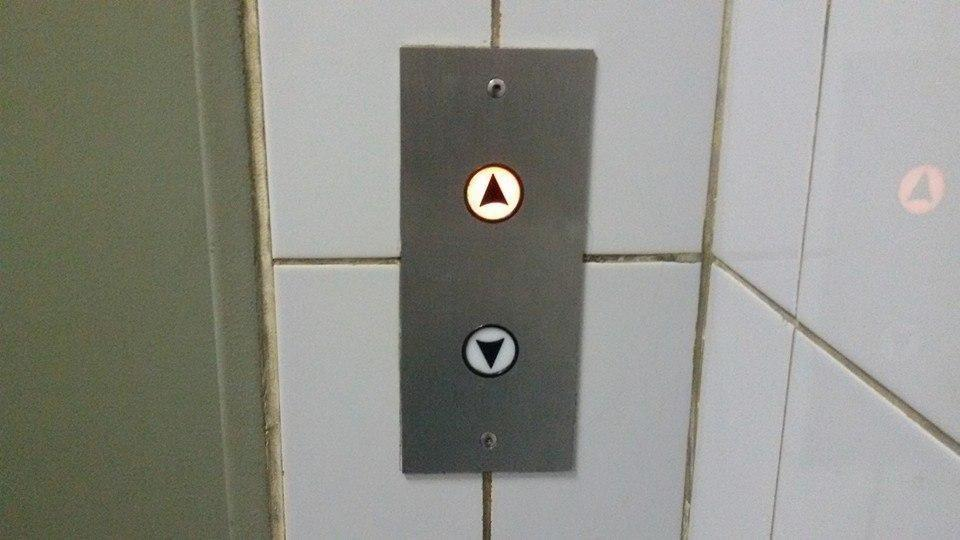down: (456, 315, 521, 385)
up: (459, 157, 524, 227), (886, 157, 951, 227)
